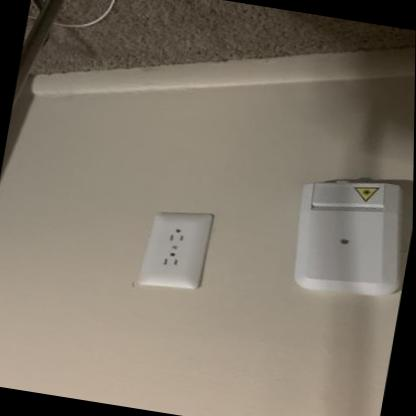OUTLET: (135, 204, 214, 294)
